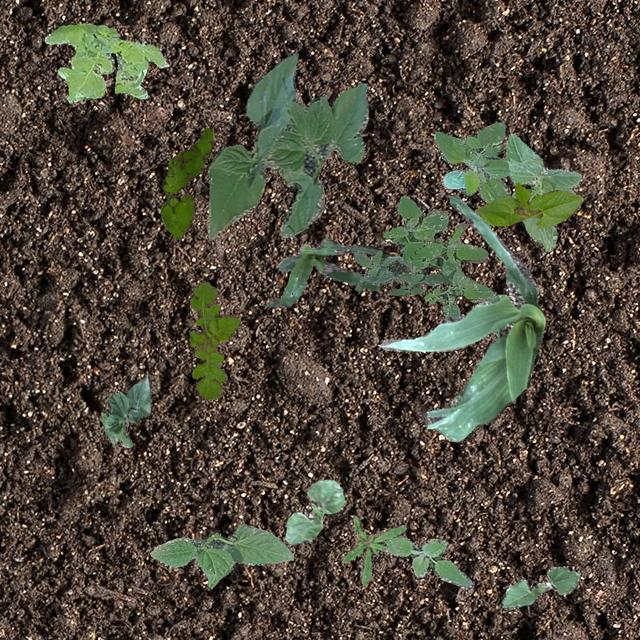crop: (376, 194, 544, 440), (206, 50, 368, 238), (504, 132, 580, 250), (148, 524, 292, 586), (264, 238, 388, 306), (432, 120, 510, 202), (474, 182, 582, 226), (284, 478, 344, 544), (100, 374, 150, 446), (499, 566, 578, 608)
weed: (382, 195, 493, 316), (44, 24, 166, 102), (188, 281, 240, 398), (160, 126, 212, 238), (352, 238, 442, 294), (382, 534, 472, 588), (340, 516, 406, 584)
